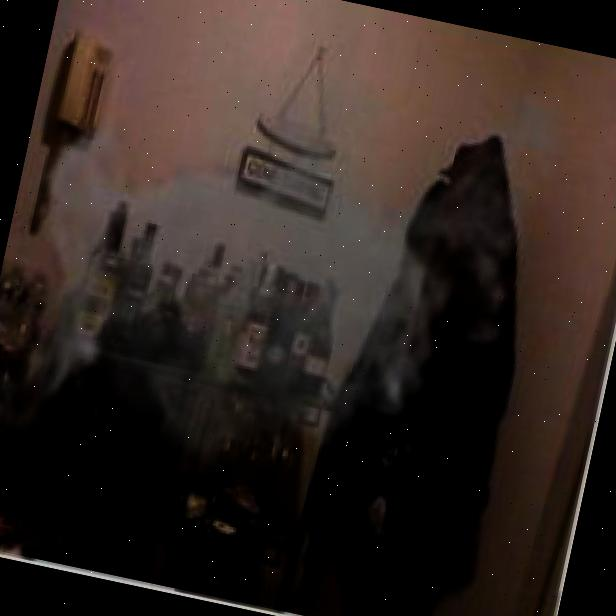smoke: (0, 0, 599, 562)
